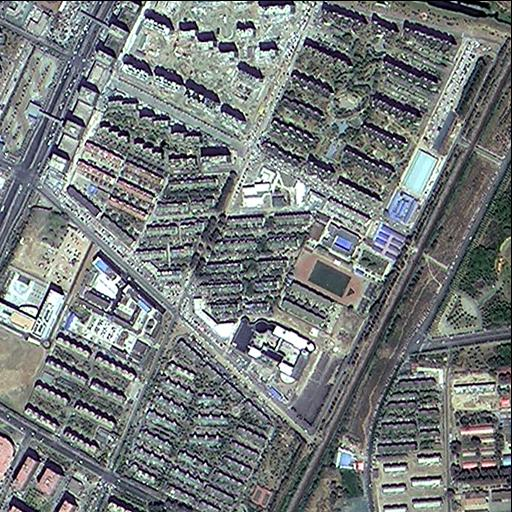school: (284, 216, 391, 311)
